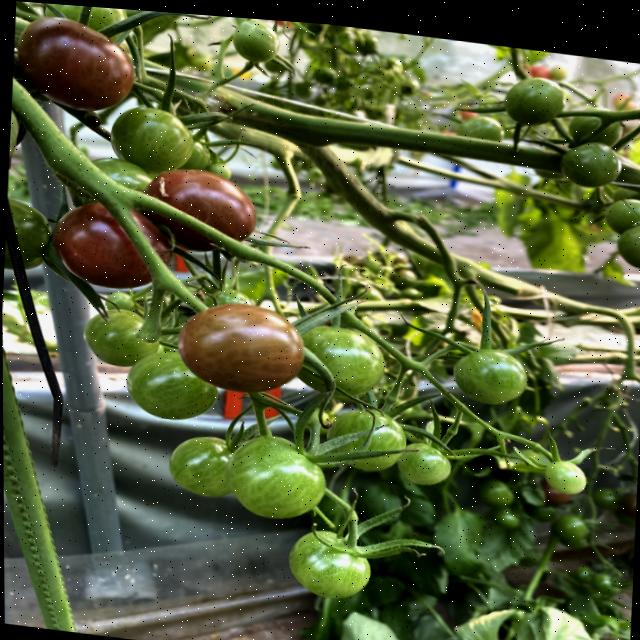ripe0: (110, 103, 196, 170), (233, 17, 280, 66)
ripe1: (177, 295, 306, 399), (17, 12, 138, 115), (51, 193, 171, 295), (147, 165, 257, 241)
